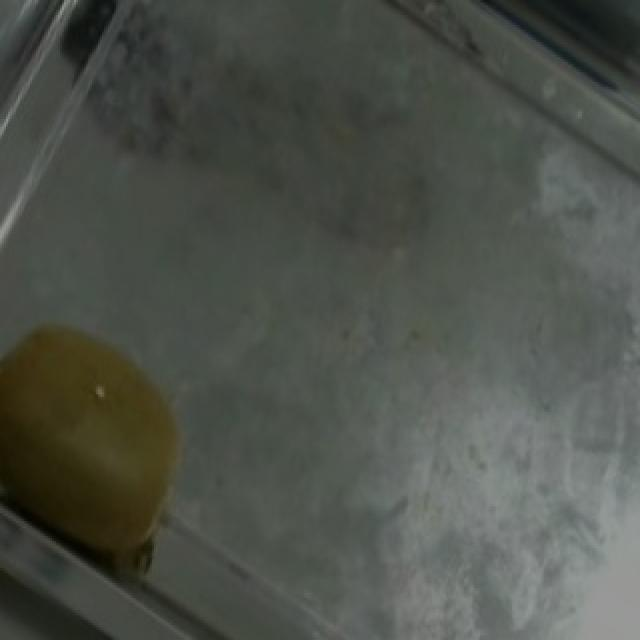Fruit: (0, 283, 228, 583)
